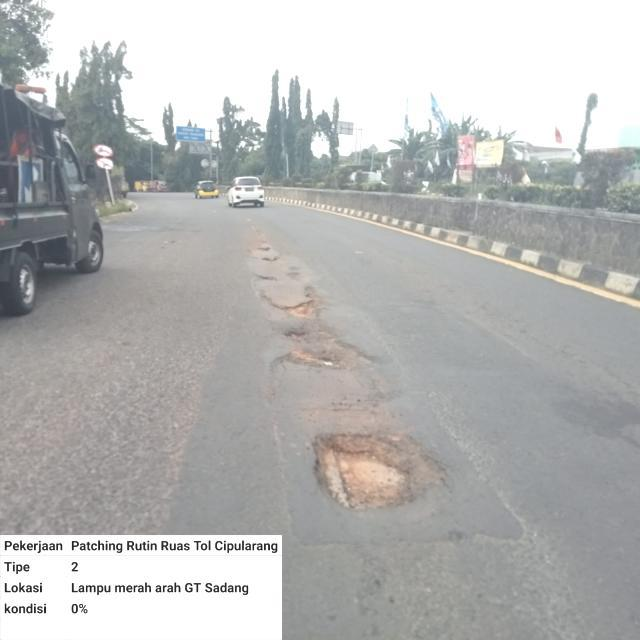Buraco: (308, 428, 453, 516), (255, 284, 381, 374), (250, 272, 280, 282), (259, 255, 282, 263), (255, 245, 272, 252)
